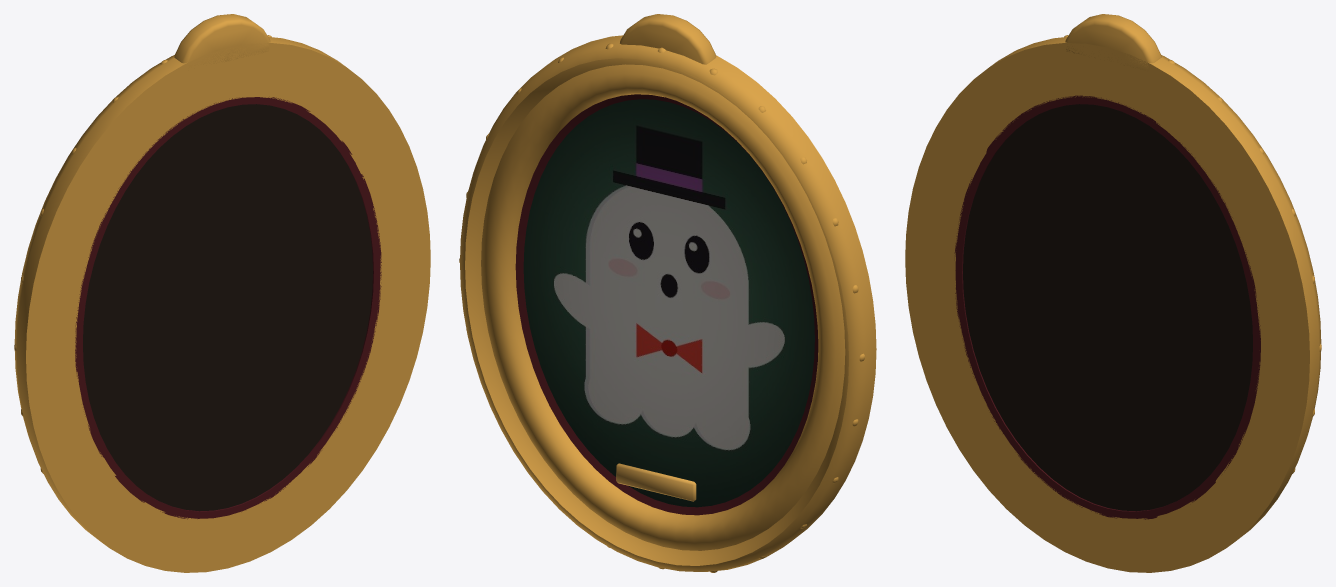
File: manor_portrait_ghost.glb
The picture shows the model from 3 angles, left to right: view 1: azimuth 30°, elevation 25°; view 2: azimuth 150°, elevation 25°; view 3: azimuth 330°, elevation 25°; orthographic projection.
Parts seen in each view (by area): view 1: Portrait_Ghost; view 2: Portrait_Ghost; view 3: Portrait_Ghost.
Boxes of the visible parts, <box> form: Portrait_Ghost: <box>14,14,430,572</box>; Portrait_Ghost: <box>459,14,876,572</box>; Portrait_Ghost: <box>905,14,1321,572</box>.
Bounding box in the file's own units: 0.6121 × 0.7892 × 0.05.
Materials: 5 (1 with a texture image).
